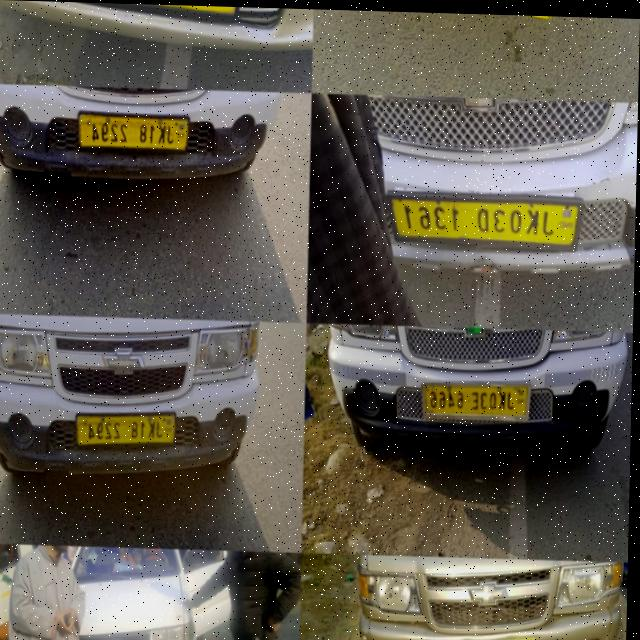plate: (382, 189, 582, 255), (69, 106, 195, 157), (417, 374, 542, 424), (76, 405, 182, 451)
